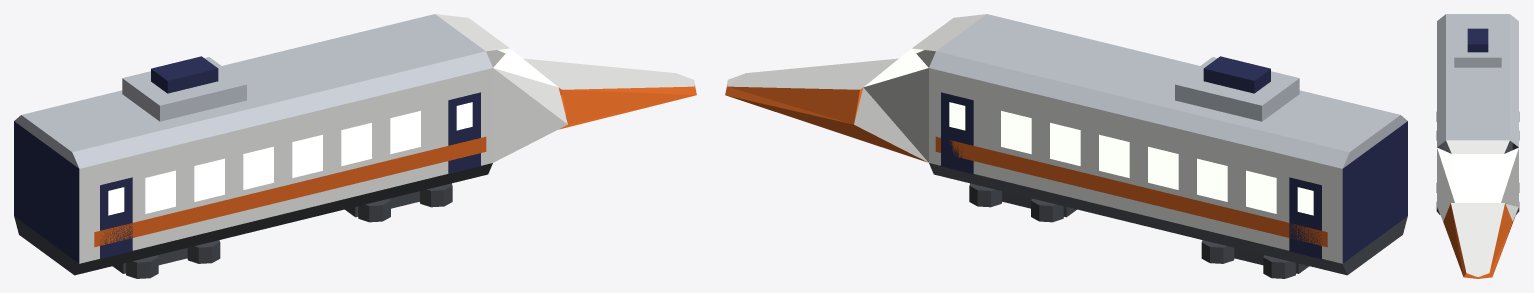
Rendered from thsr-700t.glb.
3 renders of one model, left to right at view 1: azimuth 30°, elevation 25°; view 2: azimuth 150°, elevation 25°; view 3: azimuth 270°, elevation 25°, orthographic. The views are drawn at different scales.
Parts seen in each view (by area): view 1: thsr-700t_root; view 2: thsr-700t_root; view 3: thsr-700t_root.
Boxes of the visible parts, <box> form: thsr-700t_root: <box>14,14,696,278</box>; thsr-700t_root: <box>725,14,1407,278</box>; thsr-700t_root: <box>1436,14,1519,278</box>.
Size of the model in its own units: 17.85 by 4.45 by 3.18.
Materials: 2 (2 with a texture image).
